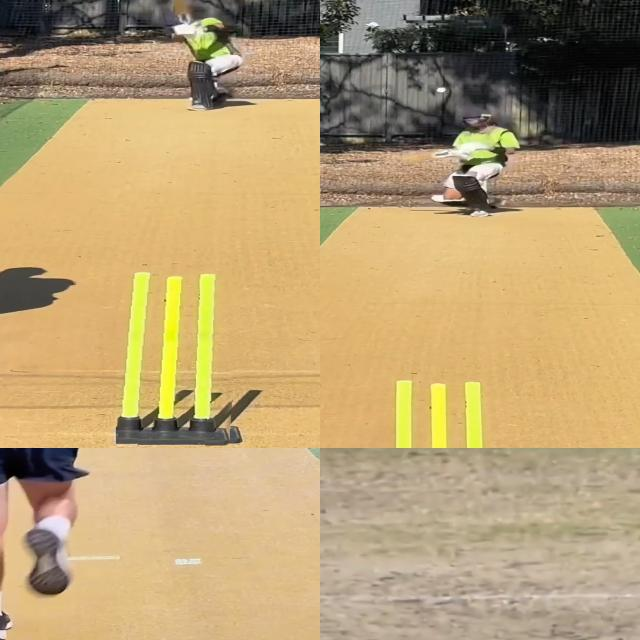Cricket ball: (435, 86, 449, 94)
Stumps: (116, 271, 242, 446), (379, 378, 504, 448)
